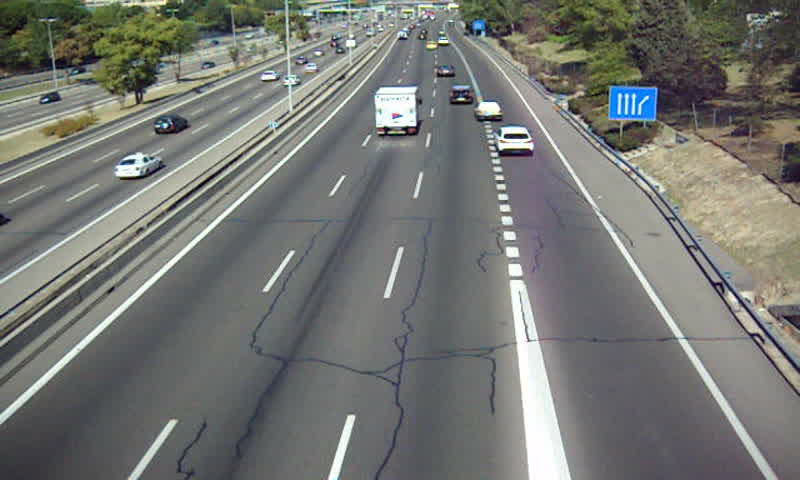car: (493, 125, 533, 153), (449, 84, 476, 105), (474, 101, 501, 117), (436, 65, 454, 78), (437, 36, 451, 46)
small-truck: (374, 85, 419, 135)
